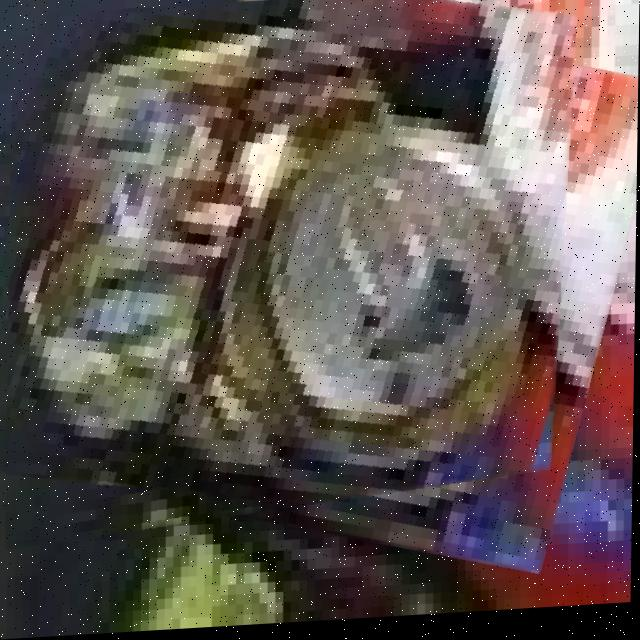can: (8, 3, 570, 514)
